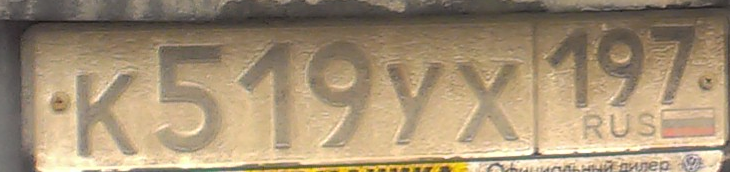character: (148, 38, 227, 162), (299, 39, 377, 156), (233, 38, 302, 159), (447, 59, 531, 149), (377, 57, 447, 153), (74, 64, 142, 161), (540, 23, 596, 118), (648, 23, 703, 110), (594, 28, 647, 111)
